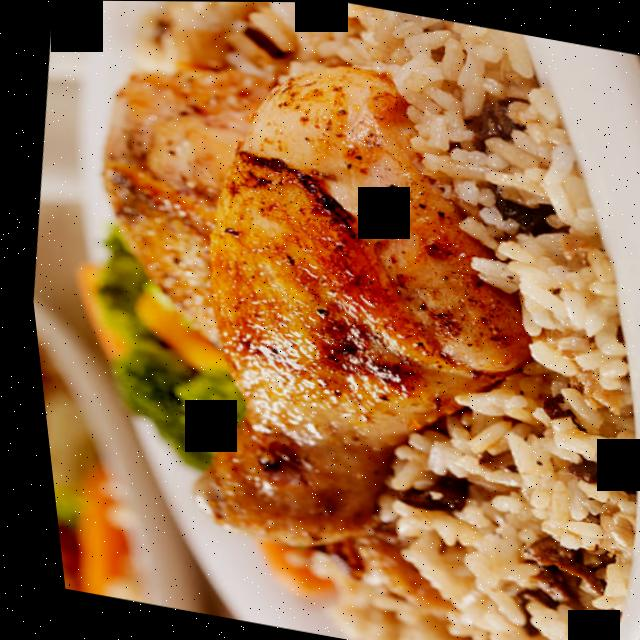Frango: (17, 7, 588, 580)
